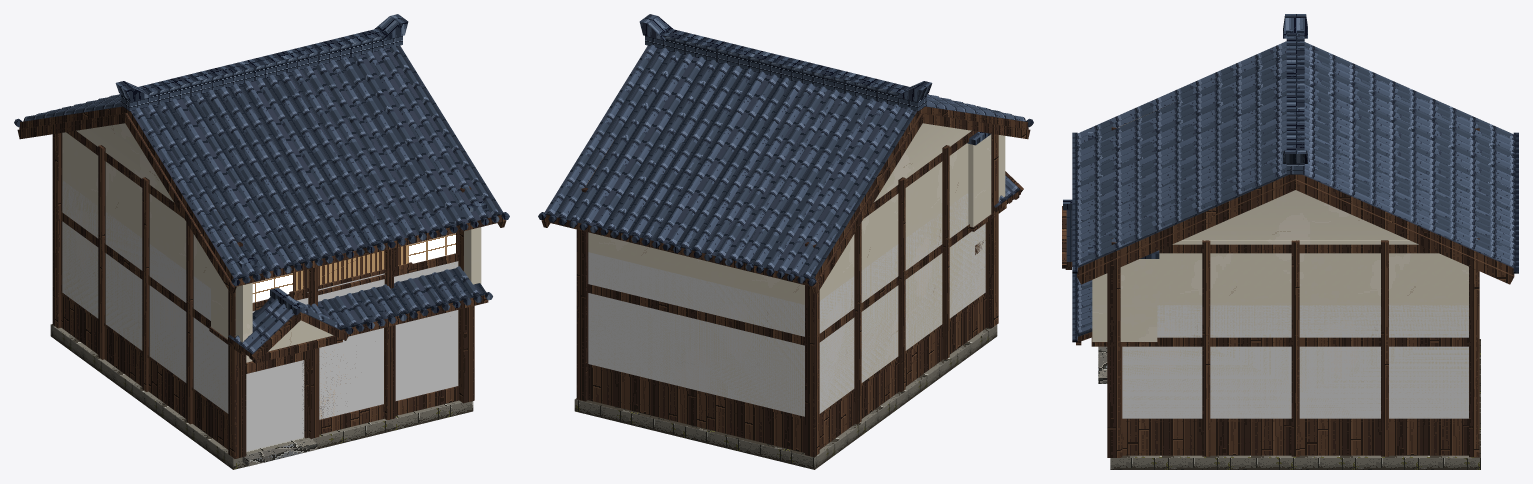
Rendered from JP_Mid_Townhouse_C.glb.
3 views of the same model, side by side, from view 1: azimuth 30°, elevation 25°; view 2: azimuth 150°, elevation 25°; view 3: azimuth 270°, elevation 25° (orthographic).
Visible parts, largest first — view 1: JP_Mid_Townhouse_C, COL_JP_Mid_Townhouse_C; view 2: JP_Mid_Townhouse_C, COL_JP_Mid_Townhouse_C; view 3: JP_Mid_Townhouse_C, COL_JP_Mid_Townhouse_C.
Boxes of the visible parts, x1,y1,x2,y2 form: JP_Mid_Townhouse_C: (14,14,509,469); COL_JP_Mid_Townhouse_C: (62,180,458,451); JP_Mid_Townhouse_C: (538,14,1033,469); COL_JP_Mid_Townhouse_C: (588,193,985,416); JP_Mid_Townhouse_C: (1062,14,1518,469); COL_JP_Mid_Townhouse_C: (1122,305,1468,418).
Size of the model in its own units: 7.42 by 8.07 by 10.23.
Materials: 11 (11 with a texture image).
